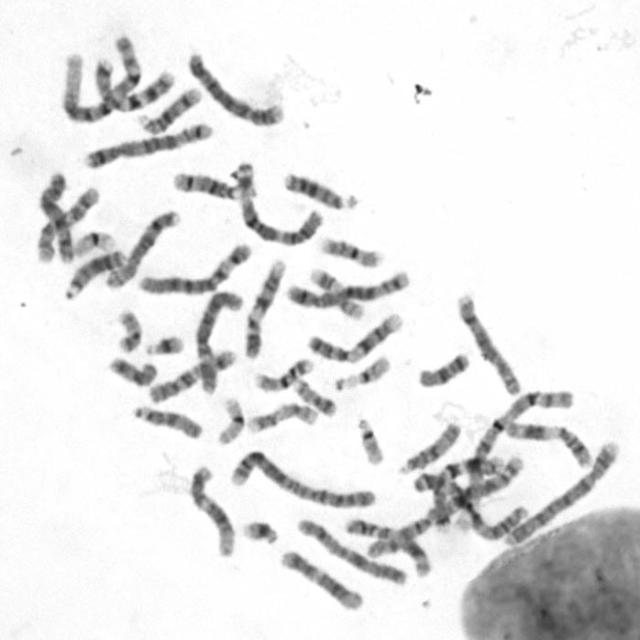A1: (462, 385, 576, 490), (57, 32, 144, 124)
A2: (358, 453, 526, 559), (225, 447, 378, 510)
A3: (236, 154, 327, 248), (416, 467, 523, 542)
B4: (498, 434, 622, 548), (184, 48, 286, 128)
B5: (80, 118, 214, 171), (282, 265, 412, 311)
C10: (144, 344, 239, 406), (35, 188, 103, 262)
C11: (341, 515, 432, 578), (502, 417, 593, 469)
C12: (276, 545, 364, 612), (184, 461, 236, 558)
C6: (134, 240, 255, 298), (197, 288, 250, 392)
C7: (437, 450, 506, 532), (90, 54, 177, 114)
C8: (453, 290, 524, 398), (102, 206, 182, 290)
C9: (304, 309, 404, 364), (240, 255, 288, 360)
D13: (61, 246, 126, 301), (280, 168, 358, 211)
D14: (168, 162, 258, 202), (136, 83, 204, 135)
D15: (394, 418, 463, 476), (129, 402, 203, 441)
E16: (252, 354, 316, 393), (316, 233, 384, 269)
E17: (306, 264, 365, 322), (244, 399, 321, 435)
E18: (414, 349, 471, 390), (105, 352, 158, 388)
F19: (212, 393, 246, 446), (71, 227, 118, 258)
F20: (289, 373, 337, 418), (113, 306, 144, 354)
G21: (238, 516, 280, 548), (141, 331, 186, 358)
G22: (332, 352, 393, 392), (354, 413, 386, 467)
X: (292, 515, 411, 586), (34, 169, 74, 264)
